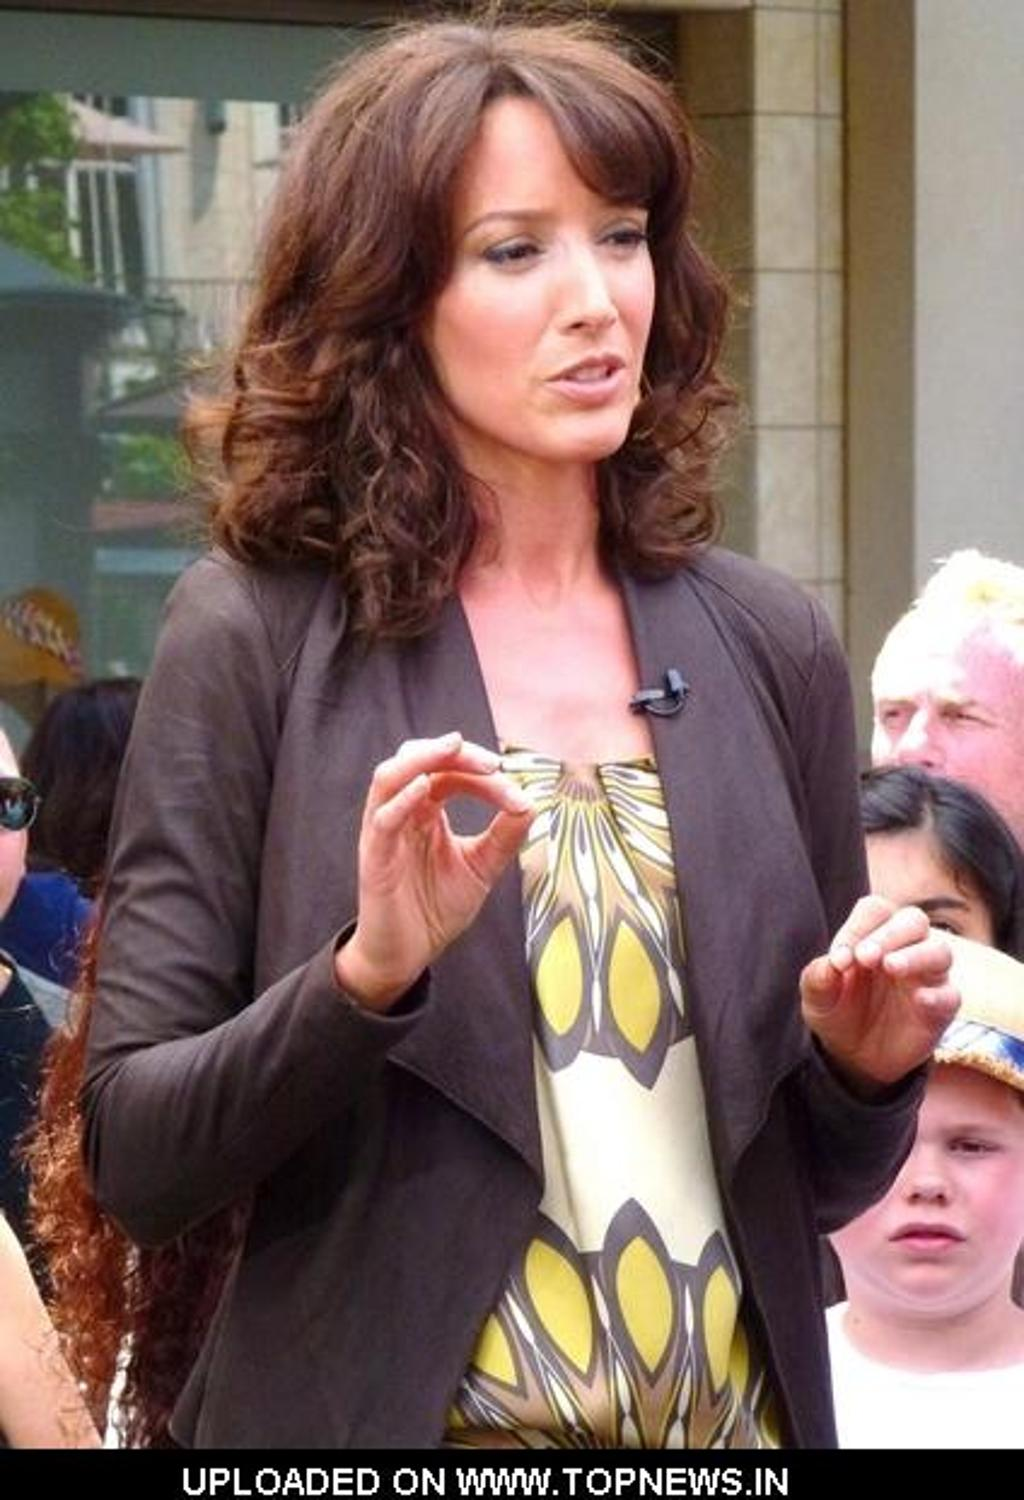face: (430, 88, 655, 462), (822, 1050, 1006, 1302), (875, 641, 1021, 846), (846, 828, 986, 1039)
